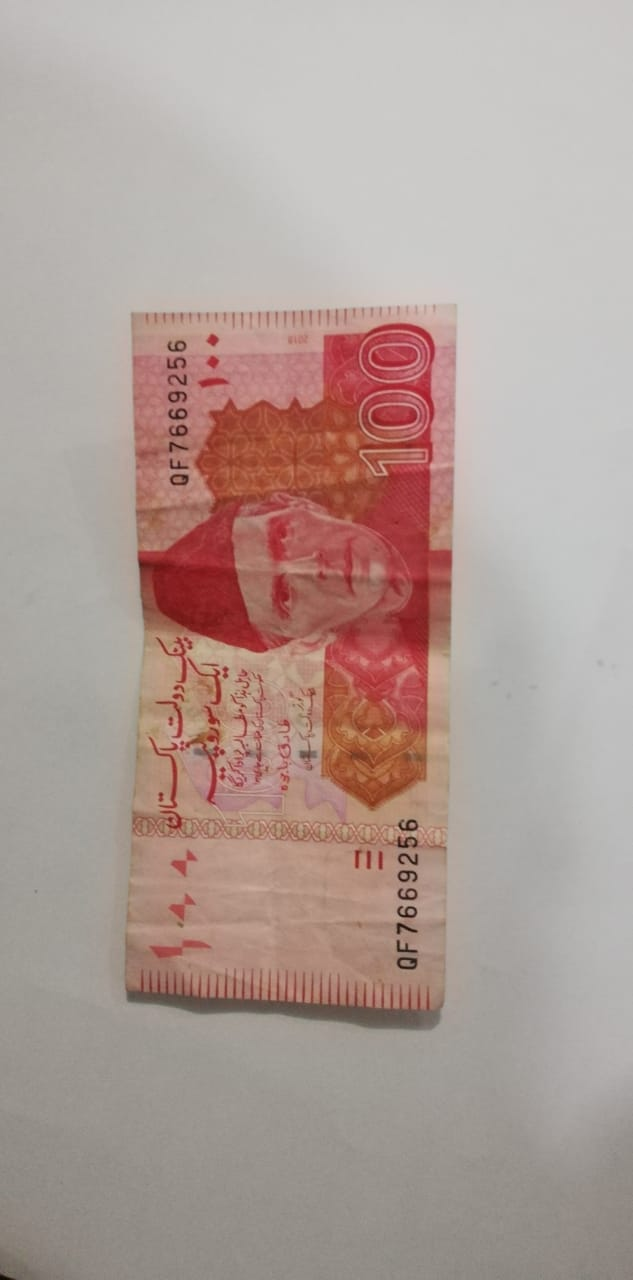100 rupee: (126, 297, 464, 1019)
